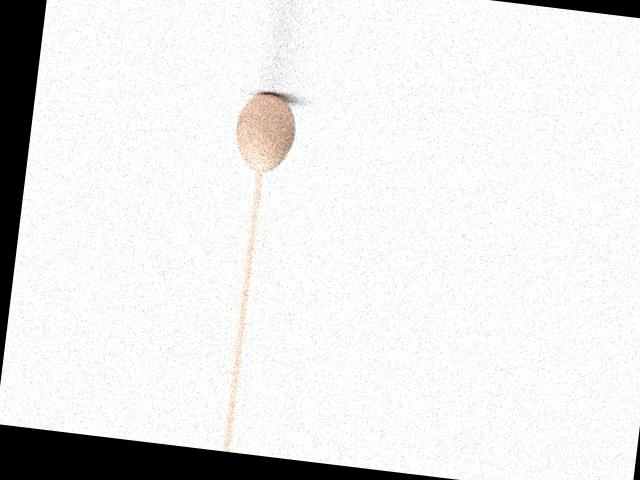egg: (230, 89, 298, 175)
